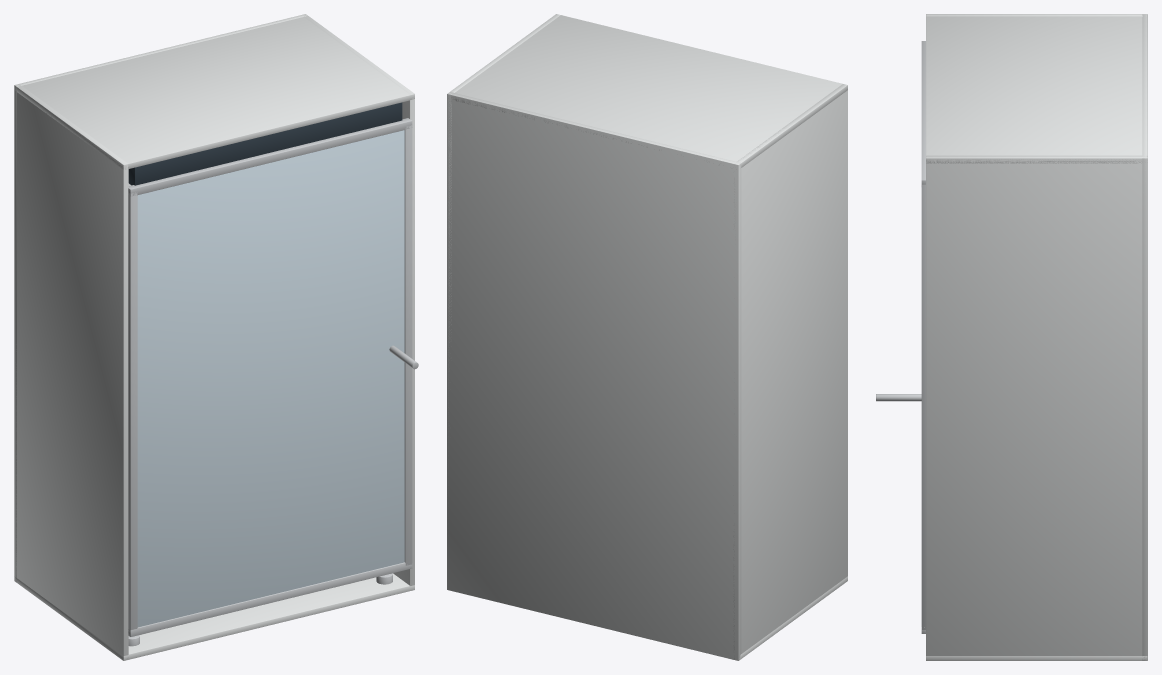
The model's file is incubator.glb.
The picture shows the model from 3 angles, left to right: view 1: azimuth 30°, elevation 25°; view 2: azimuth 150°, elevation 25°; view 3: azimuth 270°, elevation 25°; orthographic projection.
Parts seen in each view (by area): view 1: incubator_glass, incubator_side_l, incubator_top, incubator_bottom, incubator_panel, incubator_frame_l, incubator_frame_r, incubator_frame_t, incubator_frame_b, incubator_back, incubator_side_r; view 2: incubator_back, incubator_side_l, incubator_top, incubator_side_r, incubator_bottom; view 3: incubator_side_r, incubator_top, incubator_back, incubator_frame_r, incubator_bottom, incubator_frame_t, incubator_side_l.
Boxes of the visible parts, bbox=[...] form: incubator_glass: bbox=[137, 130, 404, 627]; incubator_side_l: bbox=[16, 84, 128, 660]; incubator_top: bbox=[14, 17, 414, 169]; incubator_bottom: bbox=[15, 573, 414, 660]; incubator_panel: bbox=[128, 102, 402, 185]; incubator_frame_l: bbox=[128, 192, 137, 632]; incubator_frame_r: bbox=[404, 125, 412, 565]; incubator_frame_t: bbox=[128, 118, 412, 196]; incubator_frame_b: bbox=[128, 562, 412, 636]; incubator_back: bbox=[14, 14, 307, 582]; incubator_side_r: bbox=[304, 14, 414, 585]; incubator_back: bbox=[447, 92, 741, 660]; incubator_side_l: bbox=[733, 84, 847, 659]; incubator_top: bbox=[451, 15, 847, 167]; incubator_side_r: bbox=[447, 14, 560, 531]; incubator_bottom: bbox=[447, 576, 847, 660]; incubator_side_r: bbox=[926, 155, 1147, 655]; incubator_top: bbox=[926, 14, 1147, 163]; incubator_back: bbox=[1142, 14, 1147, 660]; incubator_frame_r: bbox=[921, 184, 925, 629]; incubator_bottom: bbox=[926, 656, 1147, 660]; incubator_frame_t: bbox=[921, 41, 925, 186]; incubator_side_l: bbox=[926, 14, 1147, 16].
Size of the model in its own units: 1.2 by 1.95 by 0.955.
